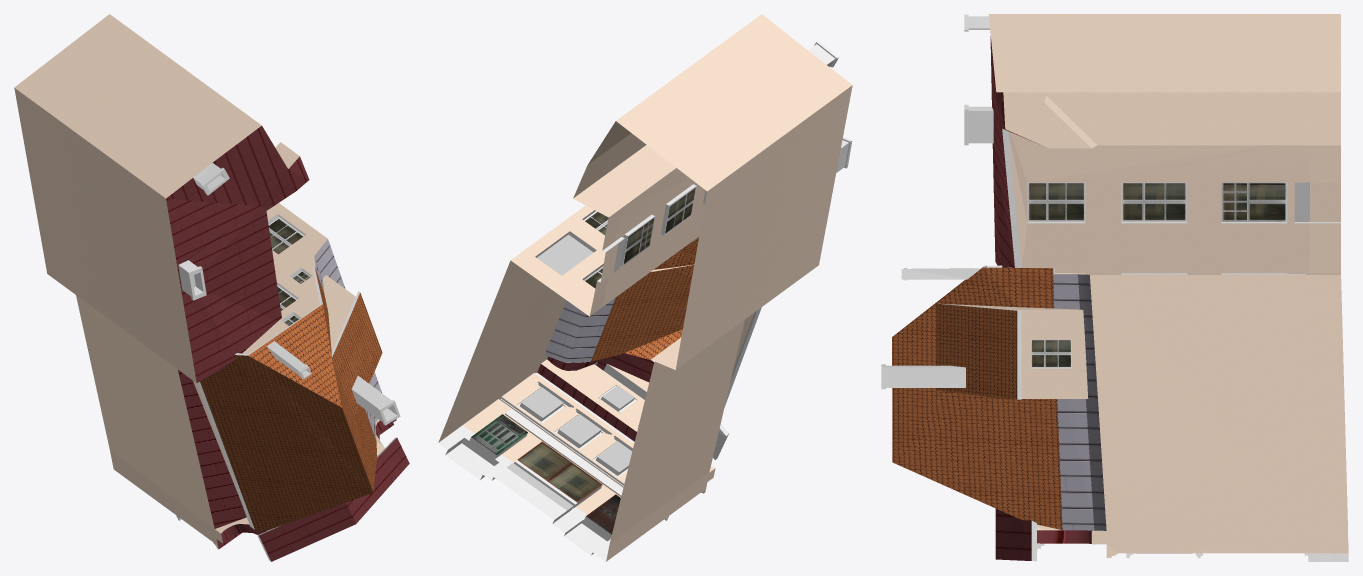
File: Pikk_3.obj
The picture shows the model from 3 angles, left to right: view 1: azimuth 30°, elevation 25°; view 2: azimuth 150°, elevation 25°; view 3: azimuth 270°, elevation 25°; orthographic projection. The views are drawn at different scales.
Parts seen in each view (by area): view 1: Pikk_3; view 2: Pikk_3; view 3: Pikk_3.
Boxes of the visible parts, box(x1,y1,x2,y2) form: Pikk_3: box(14, 14, 409, 561); Pikk_3: box(438, 14, 852, 561); Pikk_3: box(881, 14, 1348, 561).
Size of the model in its own units: 15.48 by 24.6 by 19.44.
